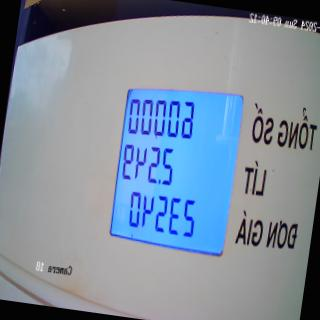screen: (104, 72, 249, 258)
